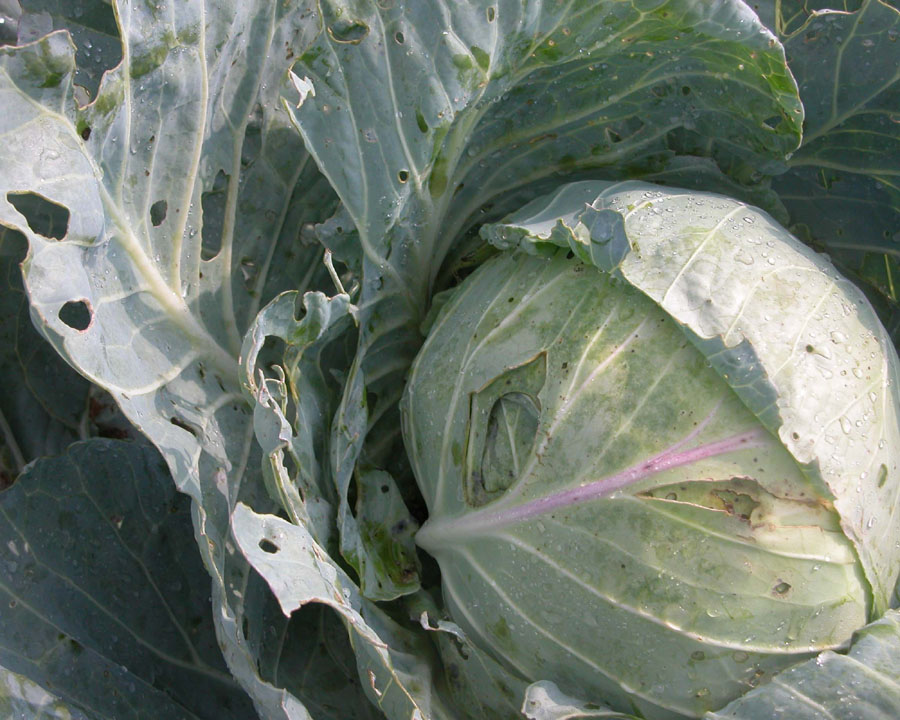cabbage: (1, 0, 898, 718)
